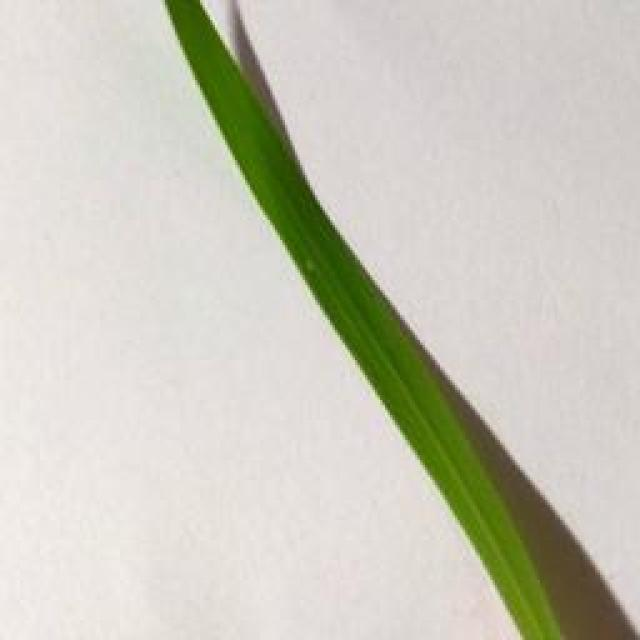Healthy-Plant: (160, 0, 482, 470)
